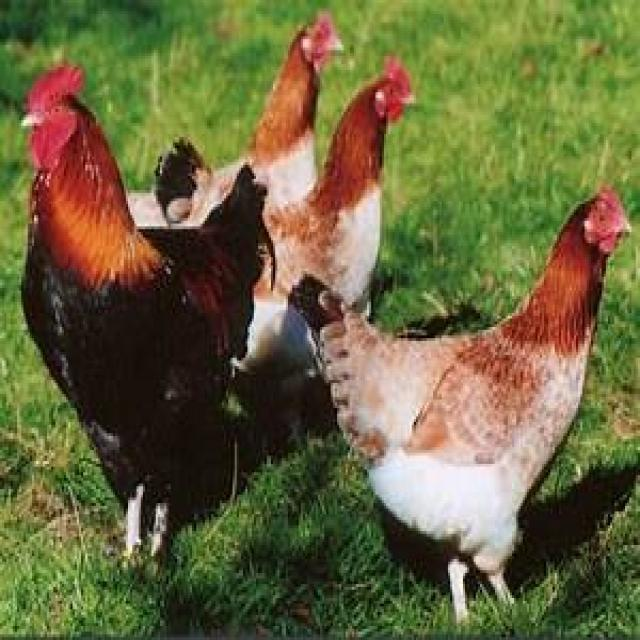hen: (294, 188, 629, 620), (24, 67, 274, 553), (264, 57, 412, 307), (249, 273, 284, 355)
